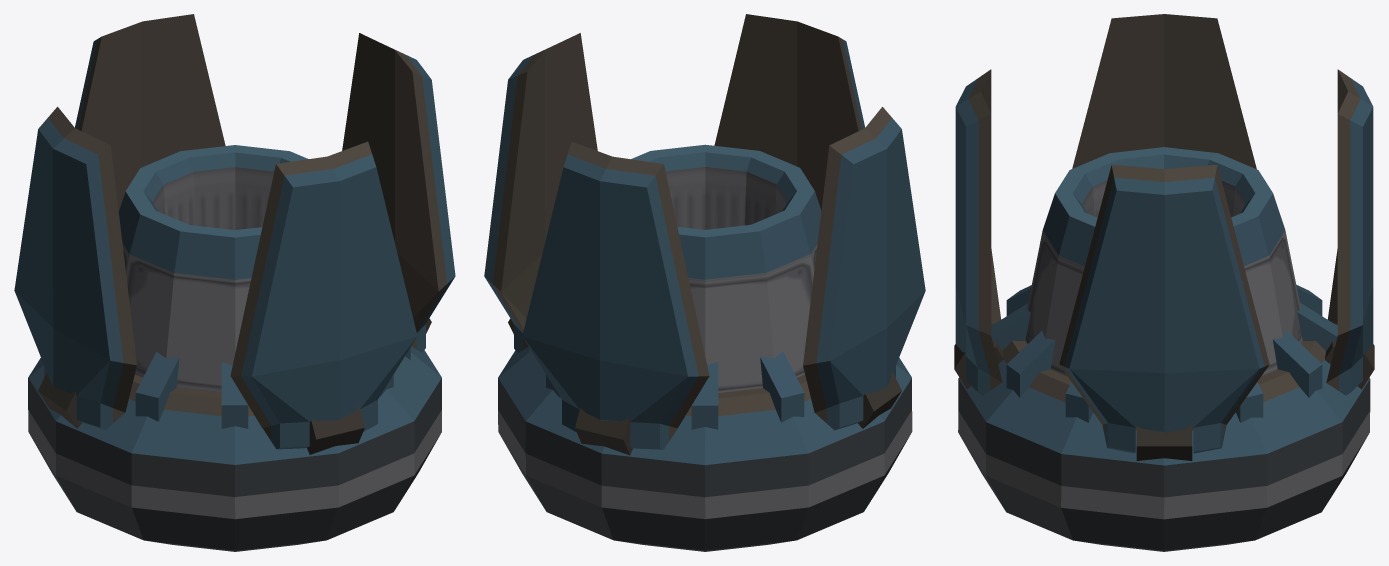
The model's file is SM_Mech_Exhaust_01_Frame_01.fbx.
The picture shows the model from 3 angles, left to right: view 1: azimuth 30°, elevation 25°; view 2: azimuth 150°, elevation 25°; view 3: azimuth 270°, elevation 25°; orthographic projection.
Parts seen in each view (by area): view 1: SM_Mech_Exhaust_01_Frame_01; view 2: SM_Mech_Exhaust_01_Frame_01; view 3: SM_Mech_Exhaust_01_Frame_01.
Part boxes in pixels (x1=…): SM_Mech_Exhaust_01_Frame_01: x1=14, y1=14, x2=455, y2=551; SM_Mech_Exhaust_01_Frame_01: x1=484, y1=14, x2=925, y2=551; SM_Mech_Exhaust_01_Frame_01: x1=954, y1=14, x2=1374, y2=551.
Bounding box in the file's own units: 48.71 × 52.69 × 48.71.
